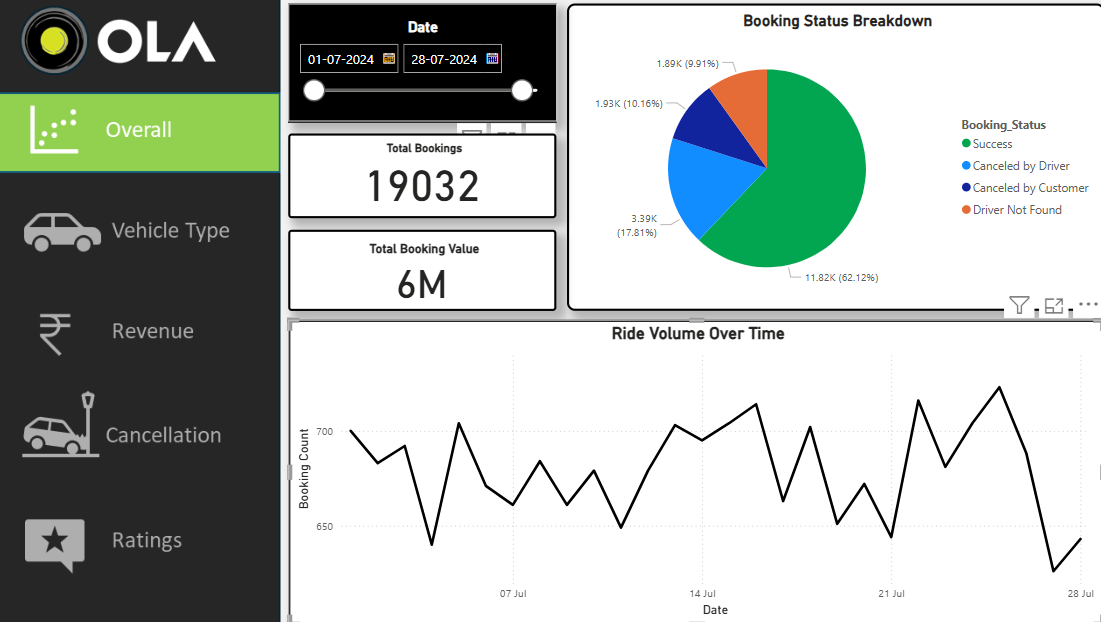

This screenshot's page, from the dashboard's own definition file:
{"tool":"powerbi","page":{"name":"Overall","canvas":[1280,720],"ordinal":0},"visuals":[{"type":"actionButton","box":[0,223.2,323.3,86.9],"z":0},{"type":"actionButton","box":[4.8,223.2,313.7,86.9],"z":1000},{"type":"actionButton","box":[0,113.4,323.3,86.9],"z":2000},{"type":"actionButton","box":[0,454.8,323.3,86.9],"z":3000},{"type":"actionButton","box":[0,580.3,323.3,86.9],"z":4000},{"type":"actionButton","box":[10,590.3,323.3,86.9],"z":5000},{"type":"actionButton","box":[20,600.3,323.3,86.9],"z":6000},{"type":"lineChart","title":"Ride Volume Over Time","fields":{"Y":["CountNonNull(July.Booking_ID)"],"Category":["July.Date"]},"box":[333,370.4,932.6,349.9],"z":7000},{"type":"pieChart","title":"Booking Status Breakdown","fields":{"Category":["July.Booking_Status"],"Y":["CountNonNull(July.Booking_ID)"]},"box":[651.5,8.4,614.1,351.1],"z":8000},{"type":"slicer","title":"Date","fields":{"Values":["July.Date"]},"box":[333,8.4,306.4,136.3],"z":9000},{"type":"card","title":"Total Bookings","fields":{"Values":["CountNonNull(July.Booking_ID)"]},"box":[333,156.8,306.4,96.5],"z":10000},{"type":"card","title":"Total Booking Value","fields":{"Values":["Sum(July.Booking_Value)"]},"box":[333,266.6,306.4,92.9],"z":11000}]}

Visuals, with their boxes on the page's 1280x720 design canvas (x1, y1, x2, y2). These are canvas units, not pixel positions in the 1101x622 screenshot, which may show the page scaled, cropped or inside an application window:
actionButton: [0,223,323,310]
actionButton: [5,223,318,310]
actionButton: [0,113,323,200]
actionButton: [0,455,323,542]
actionButton: [0,580,323,667]
actionButton: [10,590,333,677]
actionButton: [20,600,343,687]
"Ride Volume Over Time" lineChart: [333,370,1266,720]
"Booking Status Breakdown" pieChart: [652,8,1266,360]
"Date" slicer: [333,8,639,145]
"Total Bookings" card: [333,157,639,253]
"Total Booking Value" card: [333,267,639,360]
